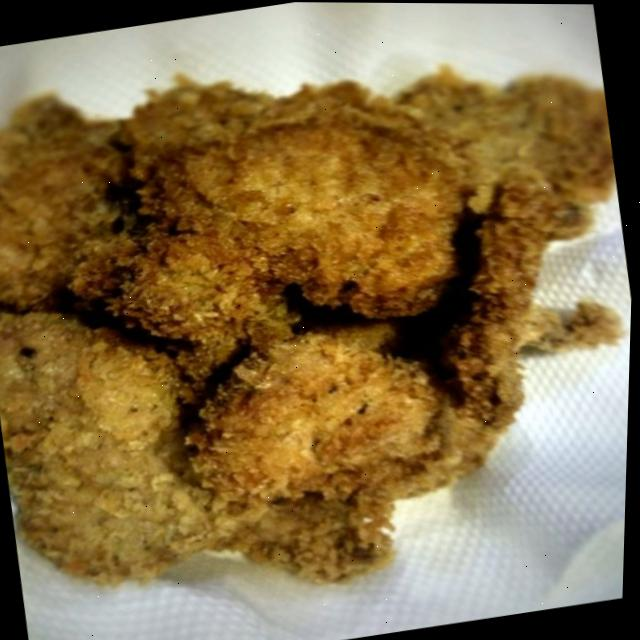牛肉菜式: (0, 30, 639, 640)
